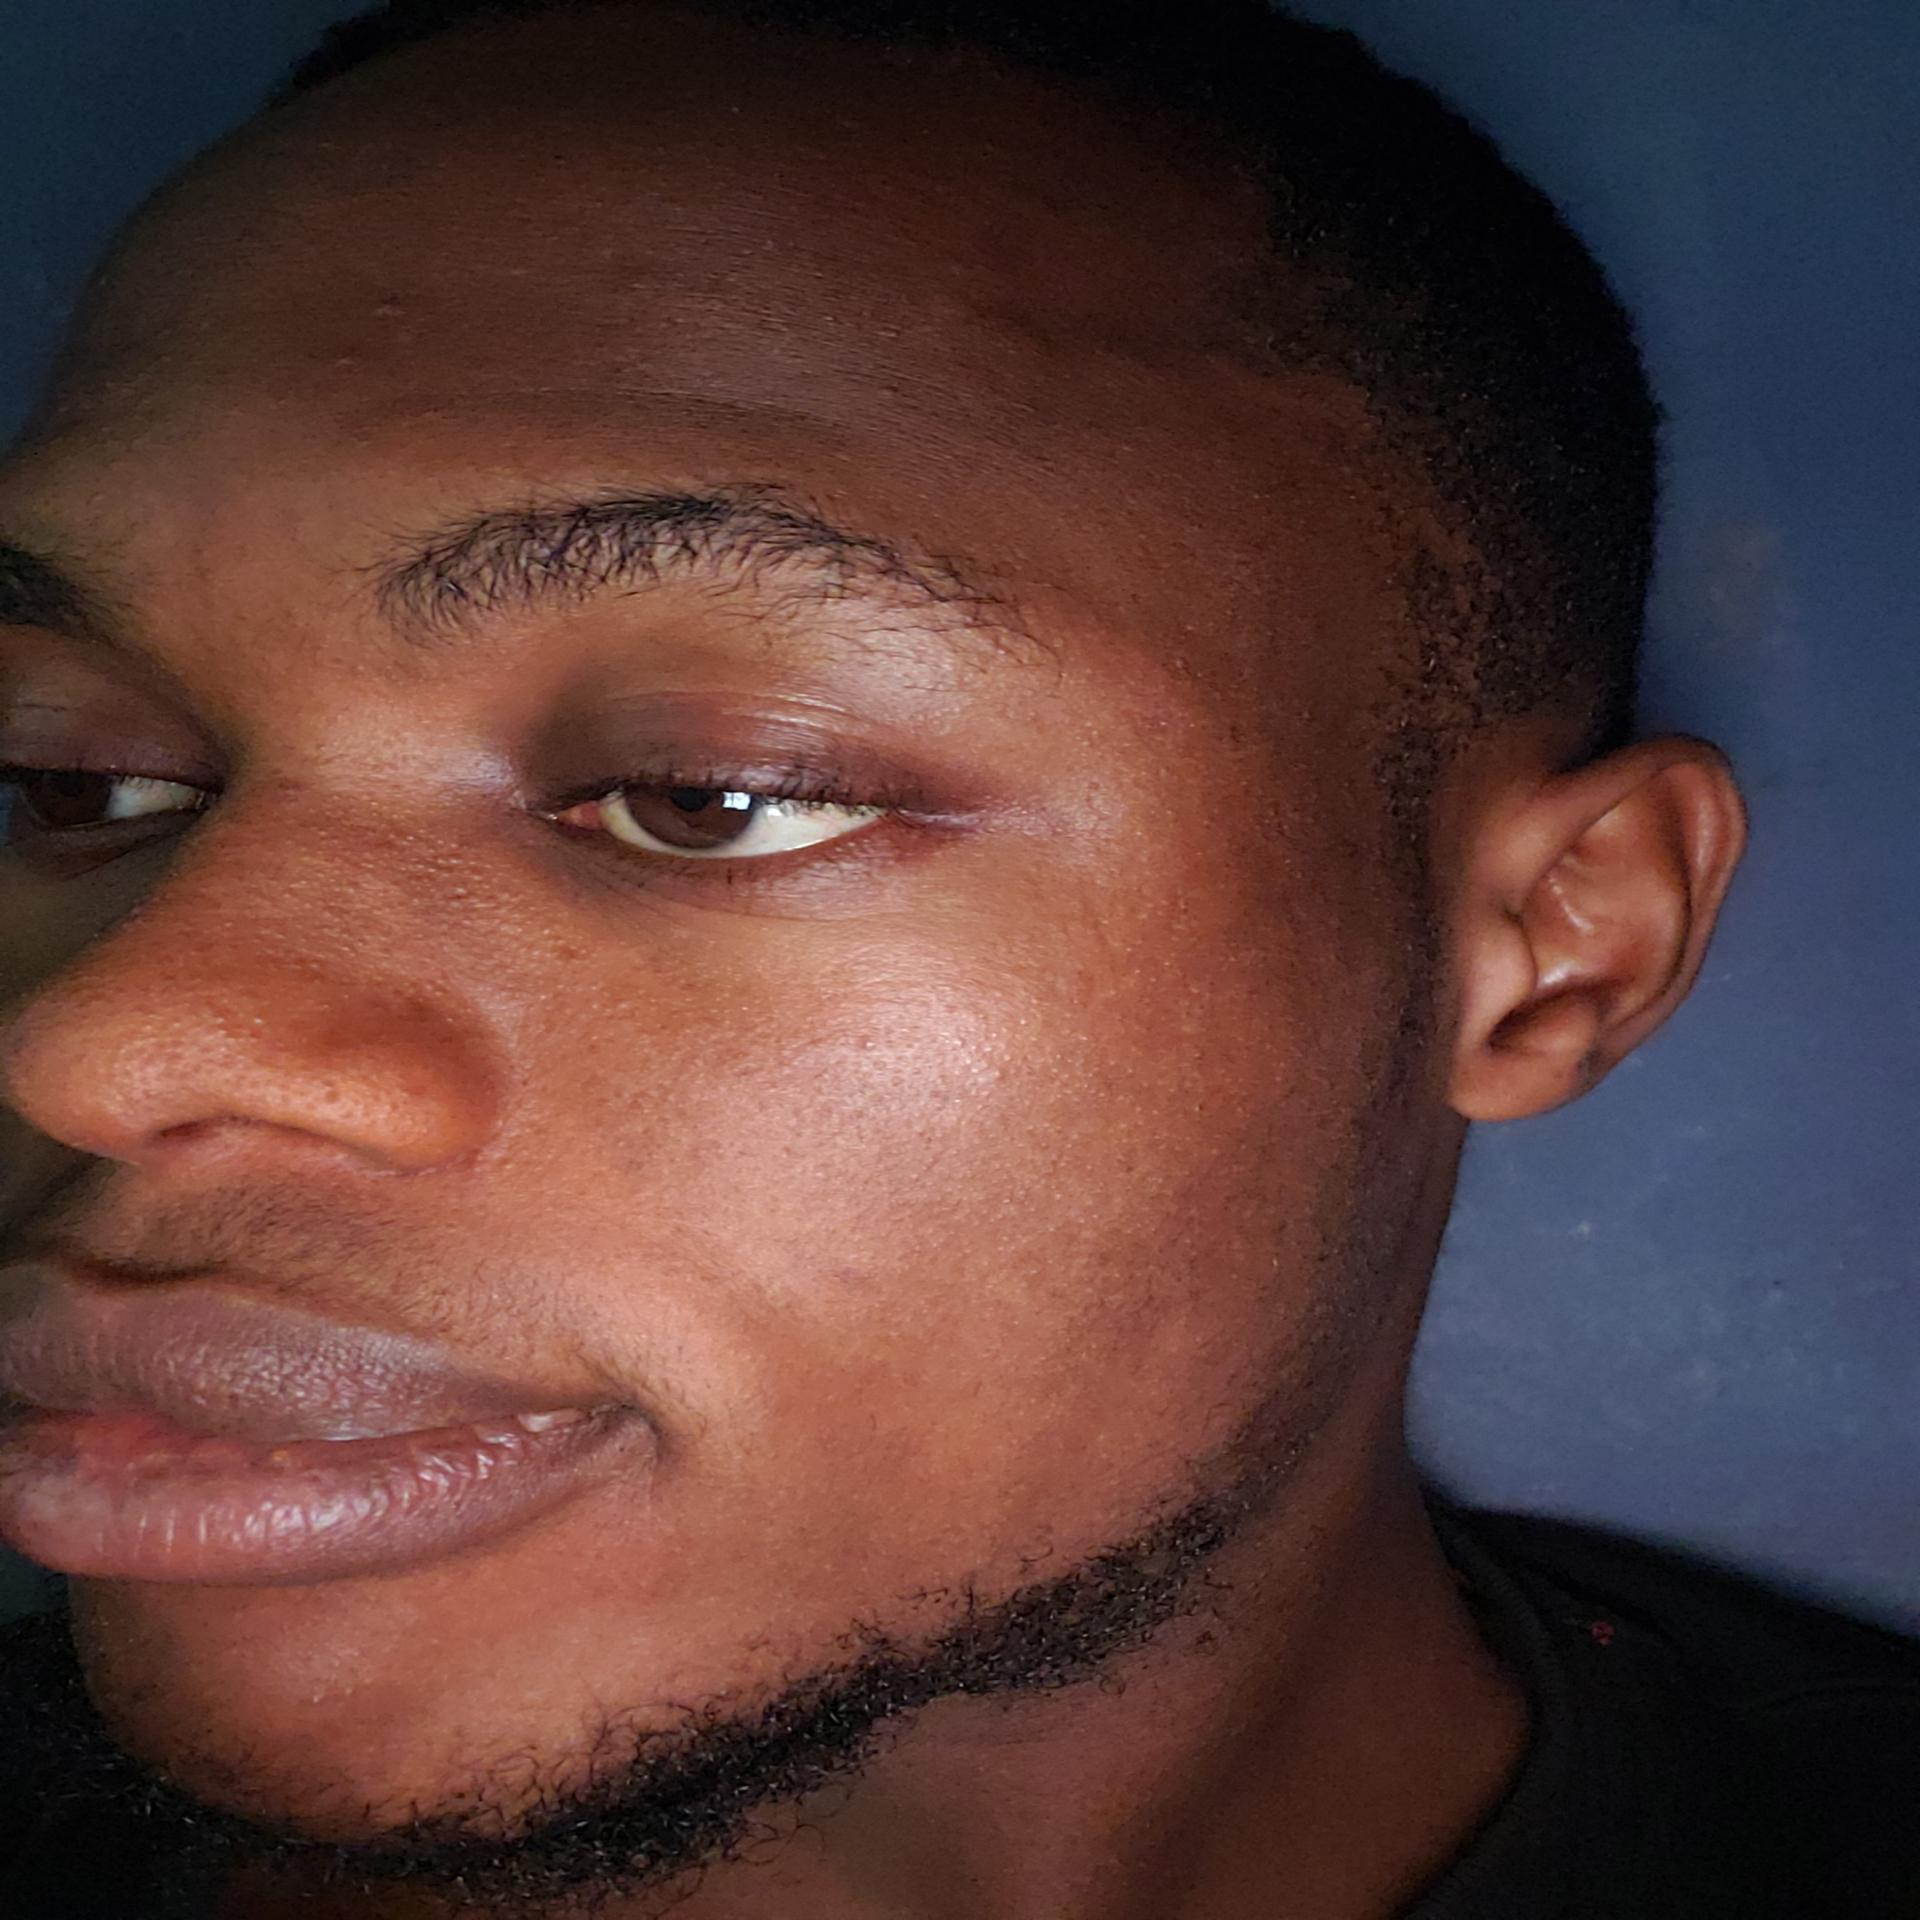Acne: (941, 288, 1067, 364), (278, 1667, 364, 1711), (1083, 327, 1148, 378), (357, 287, 438, 325), (304, 336, 373, 373)
Englarged Pores: (79, 888, 274, 1108), (311, 816, 510, 962), (559, 981, 719, 1146)
Wrinkles: (454, 371, 853, 420), (612, 274, 821, 327)
